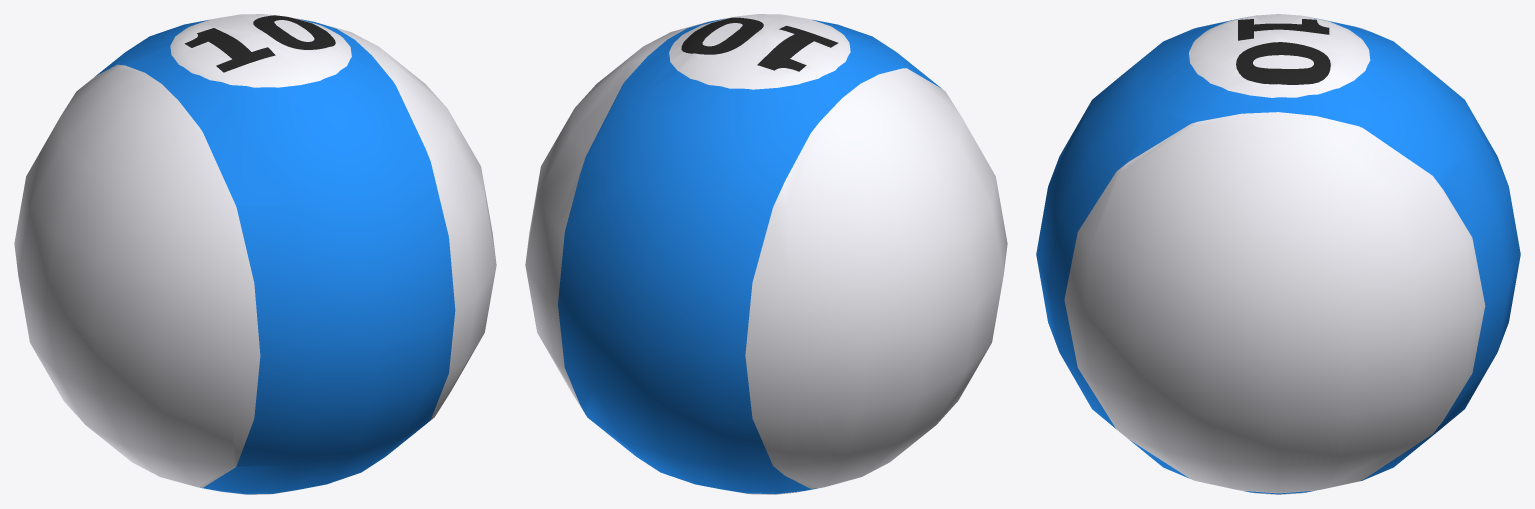
The model's file is 10ball.dae.
3 renders of one model, left to right at view 1: azimuth 30°, elevation 25°; view 2: azimuth 150°, elevation 25°; view 3: azimuth 270°, elevation 25°, orthographic.
Parts seen in each view (by area): view 1: Billiard_Ball__10_Orange_Striped (×6); view 2: Billiard_Ball__10_Orange_Striped (×6); view 3: Billiard_Ball__10_Orange_Striped (×6).
Part boxes in pixels (box(x1,y1,x2,y2)): Billiard_Ball__10_Orange_Striped (×6): box(14, 14, 496, 494); Billiard_Ball__10_Orange_Striped (×6): box(525, 14, 1007, 494); Billiard_Ball__10_Orange_Striped (×6): box(1036, 14, 1520, 494).
Size of the model in its own units: 1.58 by 1.58 by 1.58.
